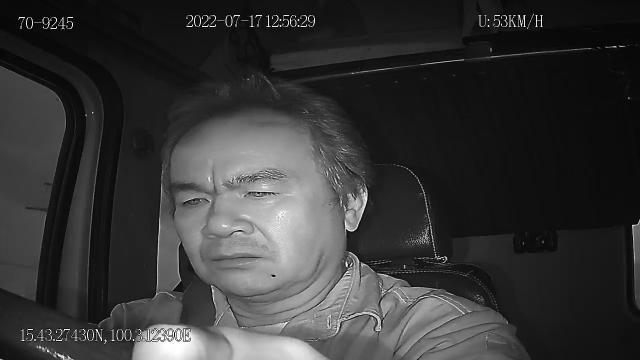SafeDriving: (233, 178, 289, 205), (172, 187, 216, 212)
Seatbelt: (177, 276, 219, 330)
